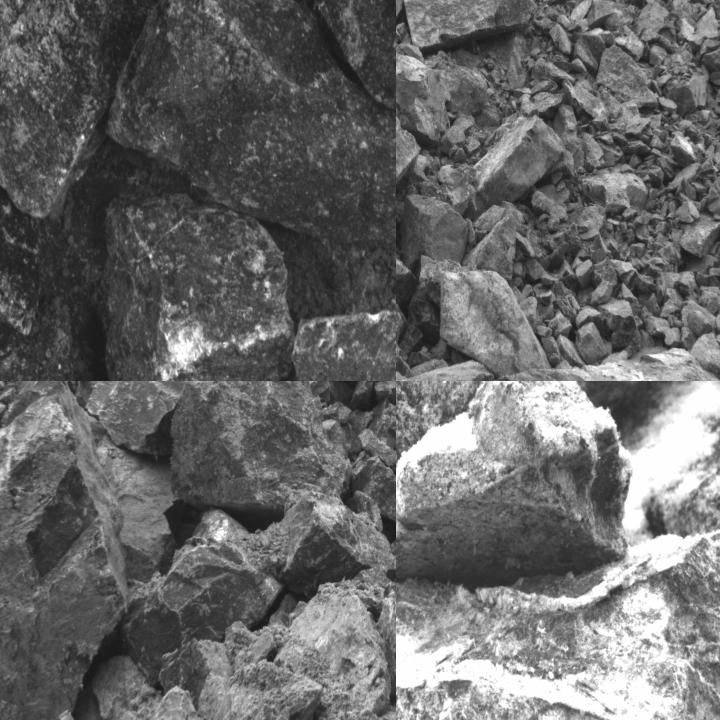stone: (103, 0, 395, 252), (396, 522, 719, 719), (396, 381, 617, 614), (0, 381, 128, 719), (611, 381, 719, 719), (101, 195, 292, 380), (0, 0, 158, 218), (282, 0, 395, 281), (123, 508, 280, 686), (256, 497, 392, 591), (438, 272, 550, 379), (74, 381, 212, 459), (464, 115, 564, 220), (0, 174, 43, 352), (404, 0, 543, 50), (399, 196, 468, 267), (597, 46, 662, 105), (347, 453, 395, 528), (396, 101, 423, 234), (468, 216, 517, 285), (414, 63, 453, 142), (583, 166, 647, 209), (376, 582, 395, 700), (396, 222, 422, 302), (636, 2, 678, 50), (664, 74, 711, 116), (680, 211, 719, 259), (396, 307, 418, 378), (688, 332, 719, 380), (687, 6, 719, 50), (350, 381, 395, 411), (599, 300, 638, 334), (438, 115, 470, 152), (534, 90, 564, 119), (701, 43, 719, 86), (590, 259, 618, 286), (669, 138, 696, 164), (549, 23, 571, 54), (588, 280, 614, 306), (575, 40, 596, 71), (627, 117, 652, 143), (375, 381, 395, 413), (575, 259, 594, 288), (520, 95, 540, 119)
